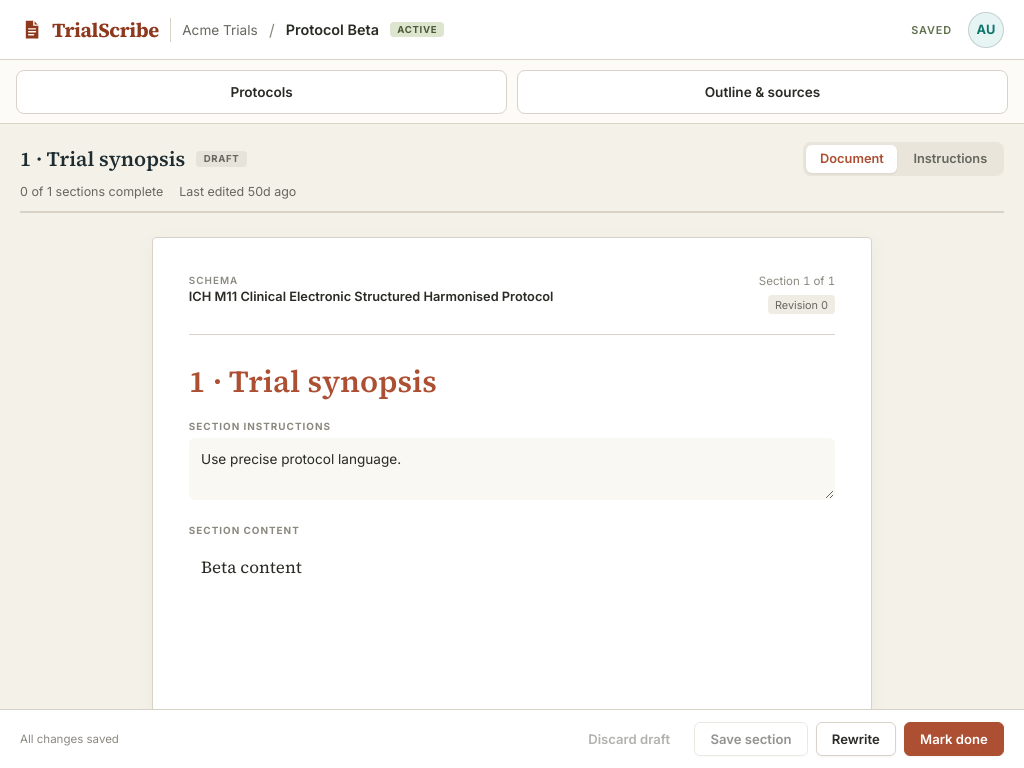
Test: DashboardPage authoring workspace › opens the protocol named in the route instead of the first one
Click the button "Instructions".
click(950, 159)  # box [900,145,1001,173]
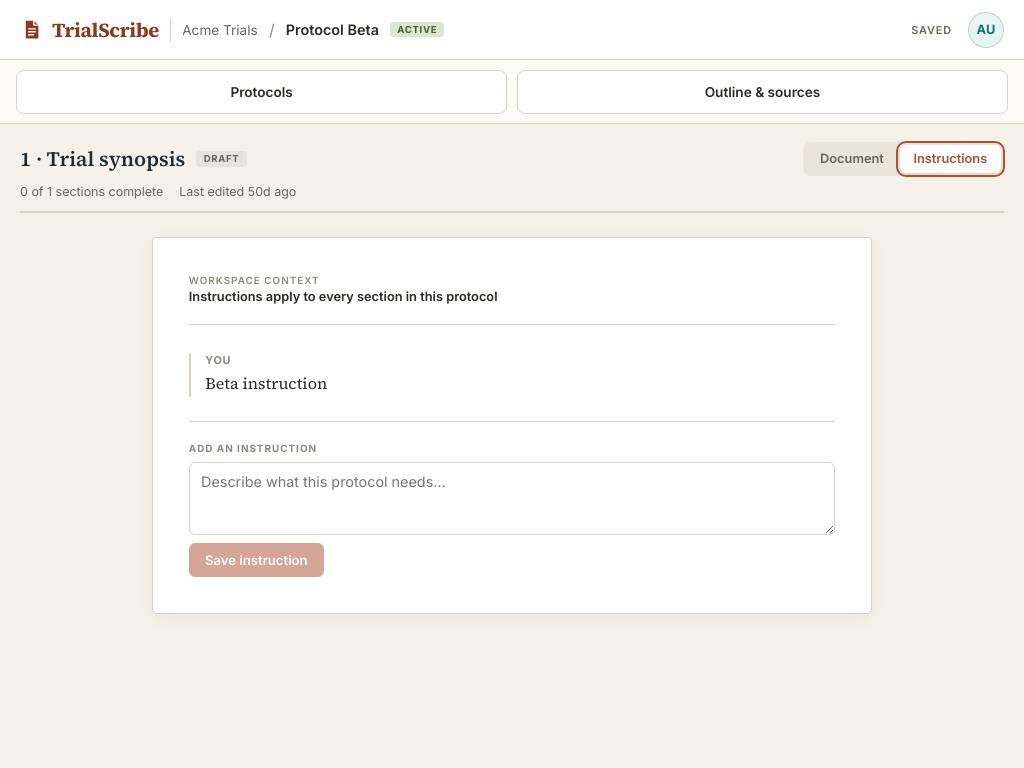
Expected: the text "Beta instruction" is shown, [205,372,327,394]
